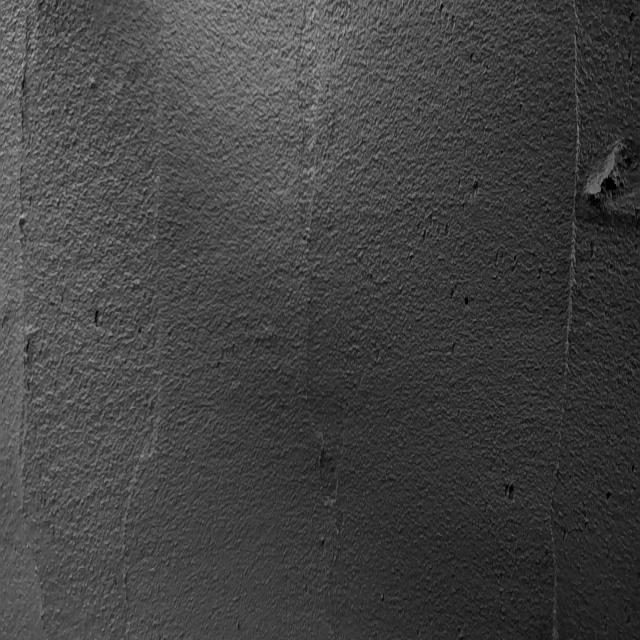trowels marks: (541, 6, 592, 626)
